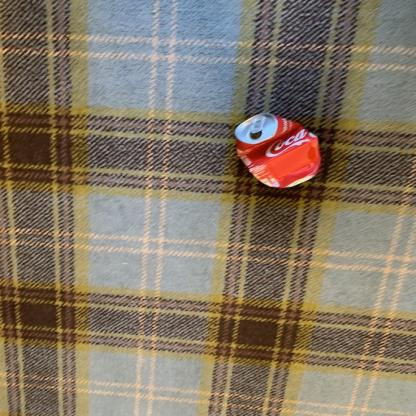trash: (235, 114, 325, 192)
